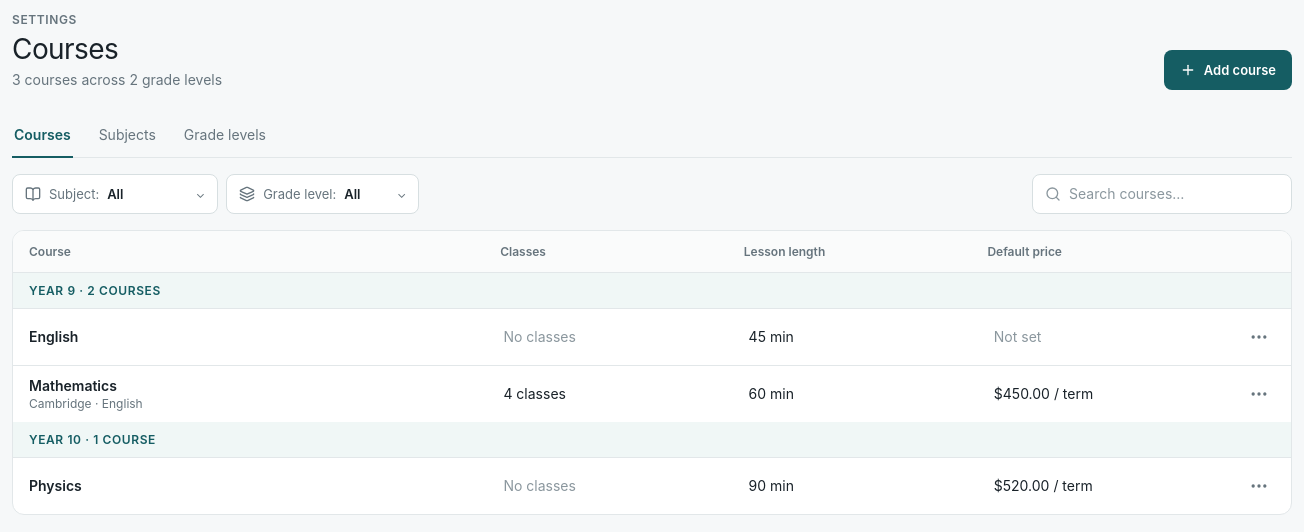
the courses tab › lists courses by grade level with their classes, lesson length and price
Expected: the text "3 courses across 2 grade levels" is shown, [12,70,222,90]
Expected: the heading "Year 9 · 2 courses" is shown, [13,273,1291,309]
Note: The filters narrow the list.
Select "Year 10" in the dropdown labelled "Grade level" at (375, 194), box [344,185,406,203]
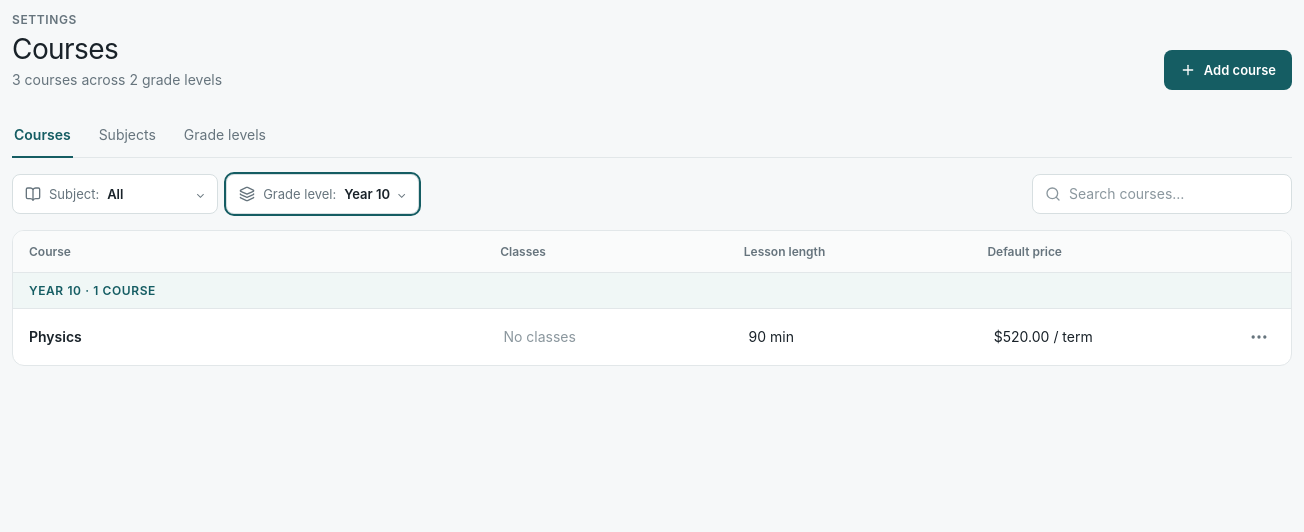
Now the heading "Year 9" is gone
Select "All" in the dropdown labelled "Grade level" at (375, 194), box [344,185,406,203]
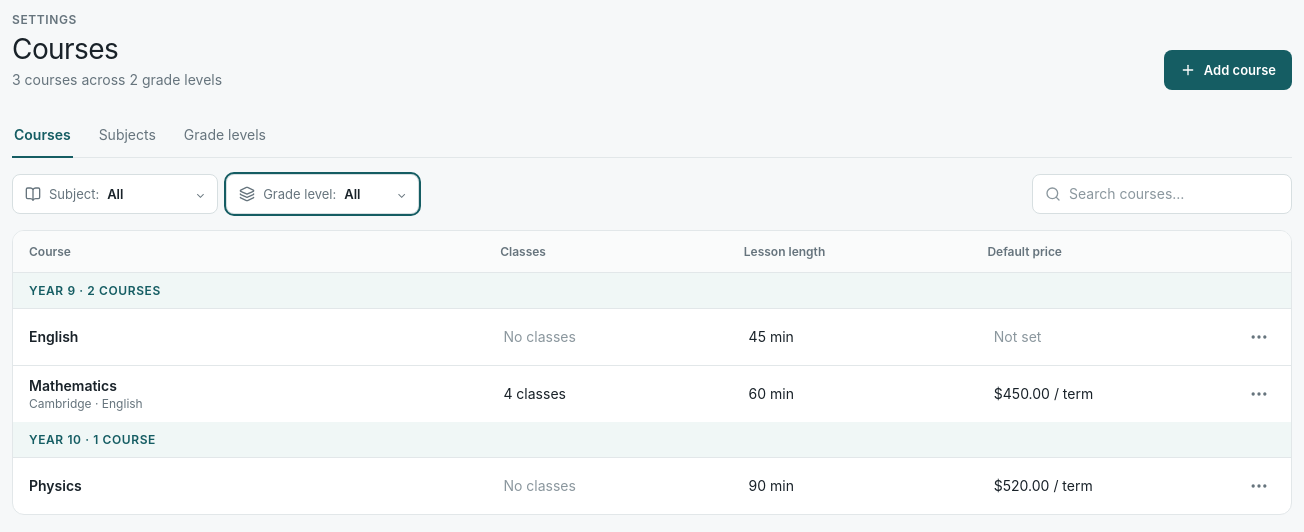
Type "camb" into the search field labelled "Search courses…" at (1174, 194), box [1069,184,1279,204]
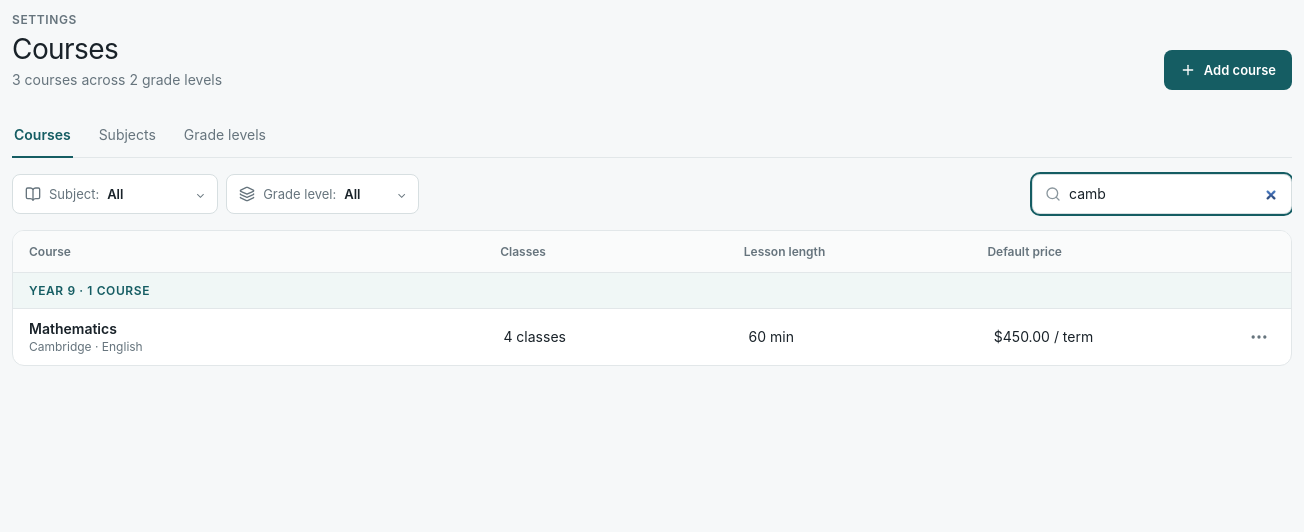
Now the number of list items is 1, box [13,309,1291,365]
